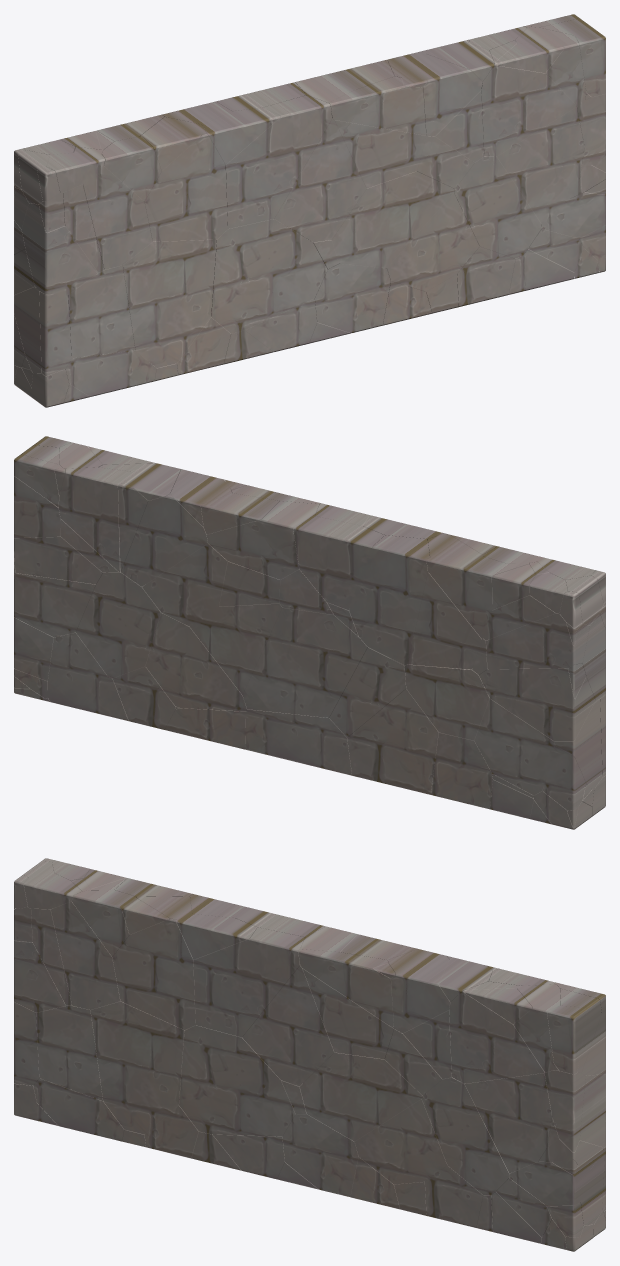
The model's file is Module_Thin_Wall_Fracture.fbx.
3 renders of one model, top to bottom at view 1: azimuth 30°, elevation 25°; view 2: azimuth 150°, elevation 25°; view 3: azimuth 330°, elevation 25°, orthographic.
Parts seen in each view (by area): view 1: Module_Thin_Wall.003_cell.081, Module_Thin_Wall.003_cell.017, Module_Thin_Wall.003_cell.031, Module_Thin_Wall.003_cell.077, Module_Thin_Wall.003_cell.083, Module_Thin_Wall.003_cell.071, Module_Thin_Wall.003_cell.104, Module_Thin_Wall.003_cell.026, Module_Thin_Wall.003_cell.027, Module_Thin_Wall.003_cell.082, Module_Thin_Wall.003_cell.019, Module_Thin_Wall.003_cell.064 (+44 smaller); view 2: Module_Thin_Wall.003_cell.028, Module_Thin_Wall.003_cell.106, Module_Thin_Wall.003_cell.047, Module_Thin_Wall.003_cell.027, Module_Thin_Wall.003_cell.009, Module_Thin_Wall.003_cell.086, Module_Thin_Wall.003_cell.087, Module_Thin_Wall.003_cell.073, Module_Thin_Wall.003_cell.036, Module_Thin_Wall.003_cell.084, Module_Thin_Wall.003_cell.034, Module_Thin_Wall.003_cell.053 (+41 smaller); view 3: Module_Thin_Wall.003_cell.081, Module_Thin_Wall.003_cell.017, Module_Thin_Wall.003_cell.031, Module_Thin_Wall.003_cell.077, Module_Thin_Wall.003_cell.083, Module_Thin_Wall.003_cell.071, Module_Thin_Wall.003_cell.104, Module_Thin_Wall.003_cell.026, Module_Thin_Wall.003_cell.027, Module_Thin_Wall.003_cell.082, Module_Thin_Wall.003_cell.019, Module_Thin_Wall.003_cell.064 (+43 smaller).
Part boxes in pixels (x1,y1,x2,y2): Module_Thin_Wall.003_cell.081: [211, 219, 327, 333]; Module_Thin_Wall.003_cell.017: [122, 239, 216, 367]; Module_Thin_Wall.003_cell.031: [225, 95, 332, 228]; Module_Thin_Wall.003_cell.077: [332, 171, 454, 267]; Module_Thin_Wall.003_cell.083: [144, 133, 227, 241]; Module_Thin_Wall.003_cell.071: [274, 118, 366, 242]; Module_Thin_Wall.003_cell.104: [481, 40, 576, 156]; Module_Thin_Wall.003_cell.026: [497, 107, 584, 223]; Module_Thin_Wall.003_cell.027: [454, 156, 541, 258]; Module_Thin_Wall.003_cell.082: [386, 193, 479, 291]; Module_Thin_Wall.003_cell.019: [68, 265, 135, 358]; Module_Thin_Wall.003_cell.064: [83, 166, 152, 269]; Module_Thin_Wall.003_cell.028: [242, 608, 367, 717]; Module_Thin_Wall.003_cell.106: [349, 535, 429, 665]; Module_Thin_Wall.003_cell.047: [347, 689, 438, 794]; Module_Thin_Wall.003_cell.027: [76, 571, 160, 678]; Module_Thin_Wall.003_cell.009: [145, 613, 247, 711]; Module_Thin_Wall.003_cell.086: [479, 668, 595, 741]; Module_Thin_Wall.003_cell.087: [293, 516, 384, 610]; Module_Thin_Wall.003_cell.073: [407, 533, 483, 669]; Module_Thin_Wall.003_cell.036: [245, 709, 352, 775]; Module_Thin_Wall.003_cell.084: [206, 501, 319, 579]; Module_Thin_Wall.003_cell.034: [58, 467, 130, 571]; Module_Thin_Wall.003_cell.053: [474, 698, 554, 795]; Module_Thin_Wall.003_cell.081: [179, 1025, 295, 1136]; Module_Thin_Wall.003_cell.017: [90, 1001, 184, 1134]; Module_Thin_Wall.003_cell.031: [193, 927, 304, 1037]; Module_Thin_Wall.003_cell.077: [299, 1052, 422, 1141]; Module_Thin_Wall.003_cell.083: [112, 918, 195, 1029]; Module_Thin_Wall.003_cell.071: [242, 965, 334, 1086]; Module_Thin_Wall.003_cell.104: [449, 981, 545, 1083]; Module_Thin_Wall.003_cell.026: [464, 1072, 551, 1173]; Module_Thin_Wall.003_cell.027: [422, 1077, 517, 1195]; Module_Thin_Wall.003_cell.082: [354, 1098, 447, 1184]; Module_Thin_Wall.003_cell.019: [36, 1005, 103, 1100]; Module_Thin_Wall.003_cell.064: [51, 901, 120, 1009].
Bounding box in the file's own units: 500 × 200 × 50.
